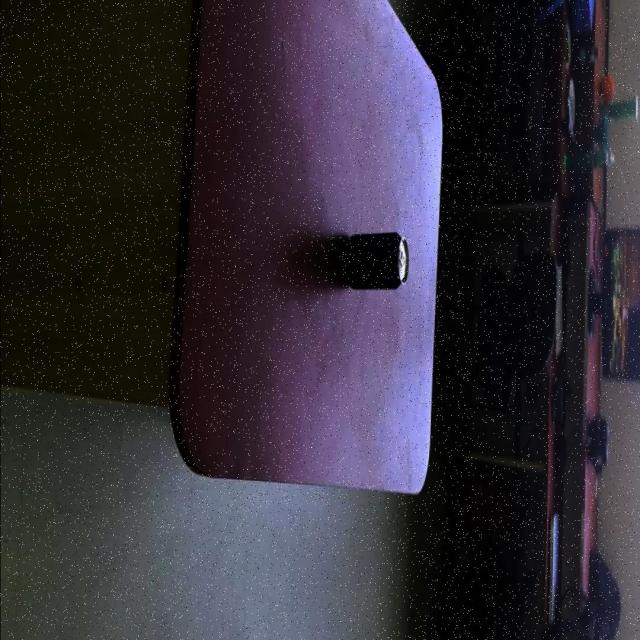Tonic: (347, 234, 410, 292), (564, 148, 616, 174), (600, 96, 638, 124), (570, 45, 600, 68)
